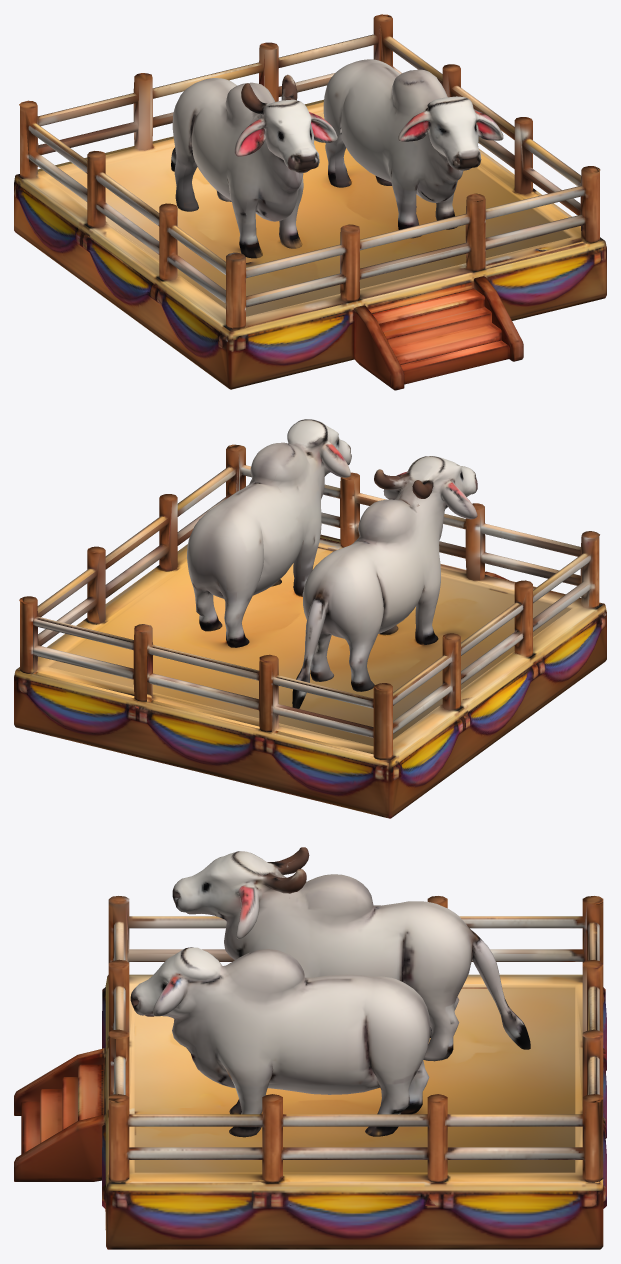
File: ganado blan.fbx
3 views of the same model, one above another, from view 1: azimuth 30°, elevation 25°; view 2: azimuth 150°, elevation 25°; view 3: azimuth 270°, elevation 25° (orthographic). The views are drawn at different scales.
Parts seen in each view (by area): view 1: mesh_rep_0_ori_repair_quad; view 2: mesh_rep_0_ori_repair_quad; view 3: mesh_rep_0_ori_repair_quad.
Part boxes in pixels (left/top/right/bottom): mesh_rep_0_ori_repair_quad: left=14, top=14, right=606, bottom=390; mesh_rep_0_ori_repair_quad: left=14, top=419, right=606, bottom=818; mesh_rep_0_ori_repair_quad: left=14, top=847, right=606, bottom=1249.
Size of the model in its own units: 75.12 by 41.02 by 87.76.
Materials: 1 (1 with a texture image).
